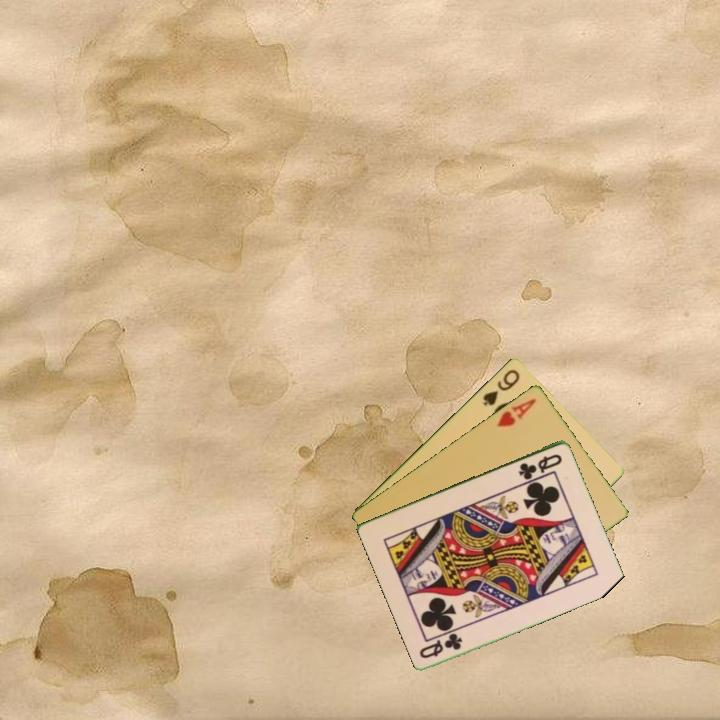9s: (479, 365, 523, 409)
Ah: (494, 394, 539, 430)
Qc: (515, 450, 565, 482), (416, 630, 465, 661)
